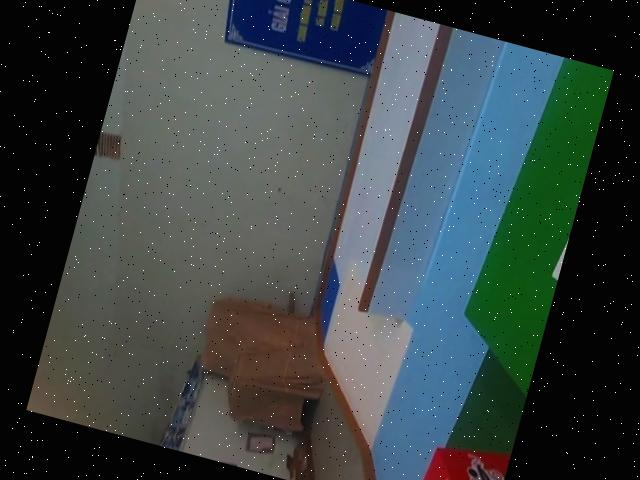R1: (406, 431, 511, 480)
